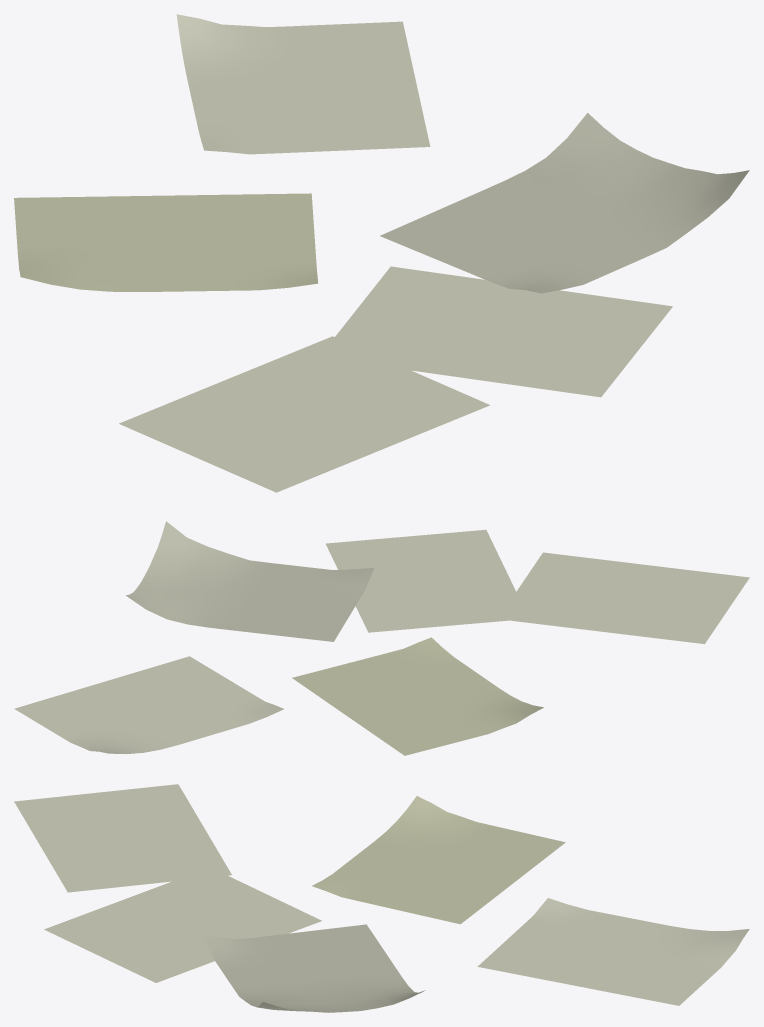
The model's file is Scattered Papers 3.fbx.
The picture shows the model from 3 angles, top to bottom: view 1: azimuth 30°, elevation 25°; view 2: azimuth 150°, elevation 25°; view 3: azimuth 270°, elevation 25°; orthographic projection. The views are drawn at different scales.
Parts seen in each view (by area): view 1: pPlane24; view 2: pPlane24; view 3: pPlane24.
Boxes of the visible parts, x1,y1,x2,y2 form: pPlane24: [14, 14, 749, 492]; pPlane24: [14, 521, 749, 755]; pPlane24: [14, 784, 749, 1012].
Size of the model in its own units: 3.5 by 0.2305 by 4.34.
